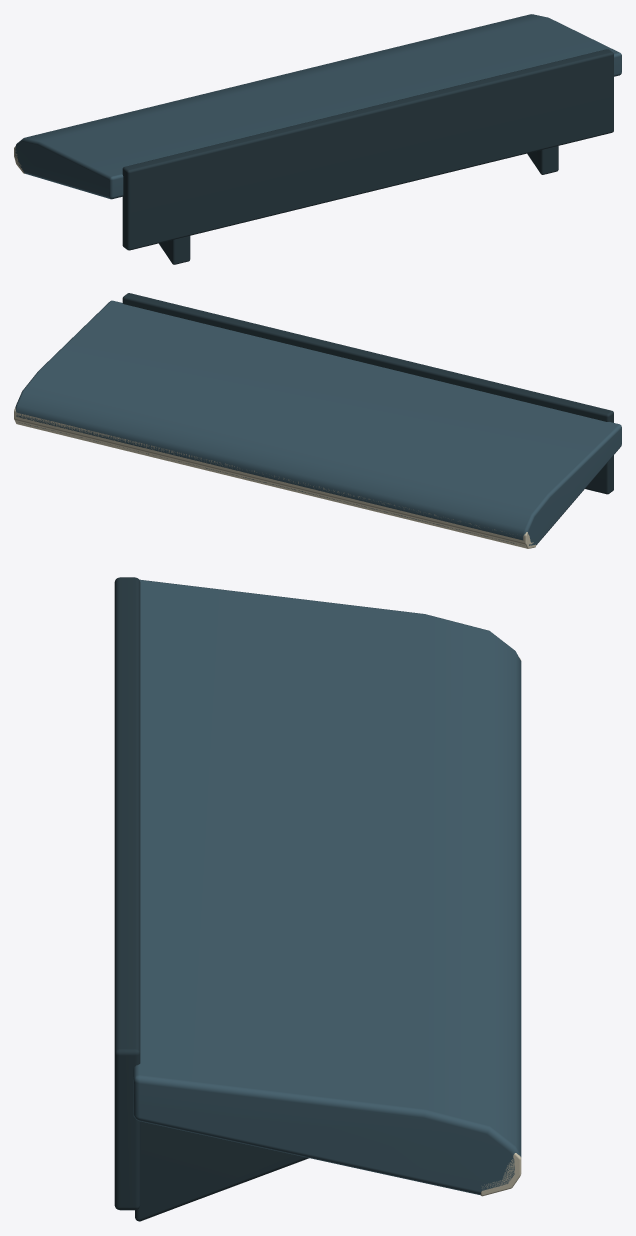
The model's file is reexport.glb.
3 renders of one model, top to bottom at view 1: azimuth 30°, elevation 25°; view 2: azimuth 150°, elevation 25°; view 3: azimuth 270°, elevation 25°, orthographic. The views are drawn at different scales.
Visible parts, largest first — view 1: wall_mount_rail, formed_canopy, paired_tapered_gussets; view 2: formed_canopy, wall_mount_rail, rolled_front_rim; view 3: formed_canopy, wall_mount_rail, paired_tapered_gussets.
Boxes of the visible parts, x1,y1,x2,y2 form: wall_mount_rail: (122,49,613,250); formed_canopy: (15,14,621,199); paired_tapered_gussets: (159,146,558,264); formed_canopy: (15,300,621,545); wall_mount_rail: (122,293,613,494); rolled_front_rim: (14,407,535,548); formed_canopy: (133,579,521,1195); wall_mount_rail: (114,577,140,1210); paired_tapered_gussets: (135,1121,308,1221).
Size of the model in its own units: 3.2 by 0.66 by 1.1.
